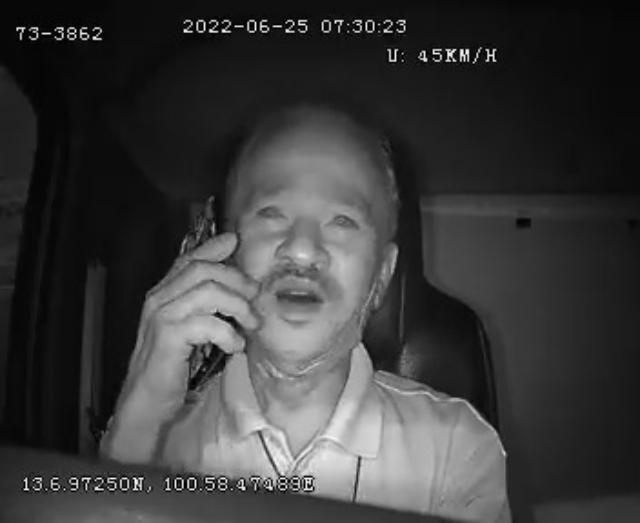PhoneUse: (178, 196, 230, 389)
SafeDriving: (317, 194, 368, 242), (248, 188, 295, 232)
